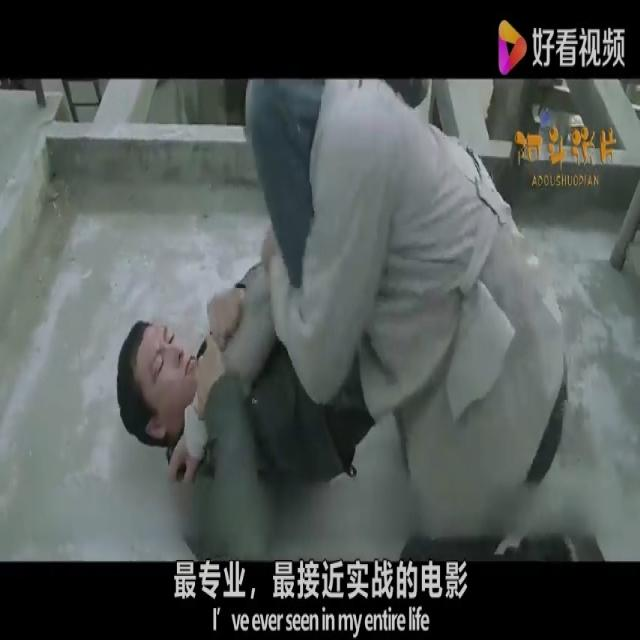fight: (79, 48, 595, 573)
